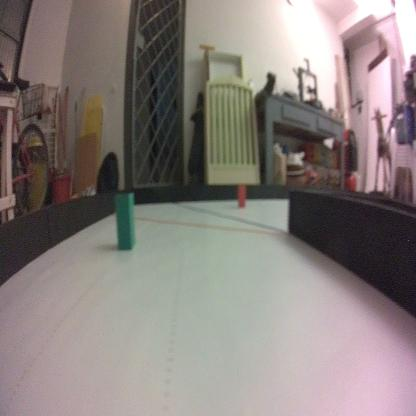green: (114, 188, 138, 253)
red: (237, 184, 246, 209)
